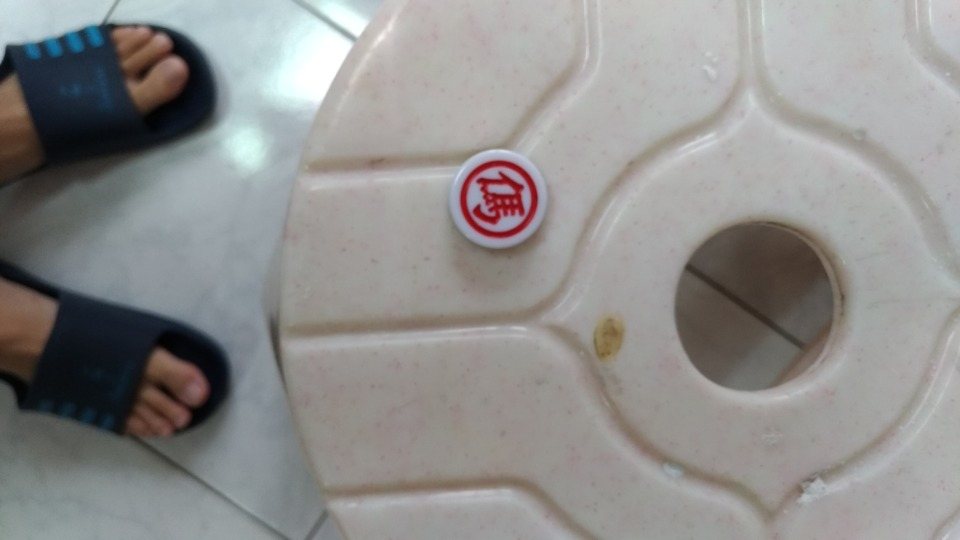r-knight: (443, 139, 553, 259)
